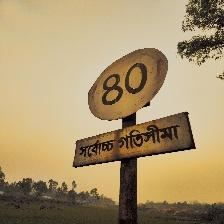Speed-limit: (74, 46, 194, 168)
